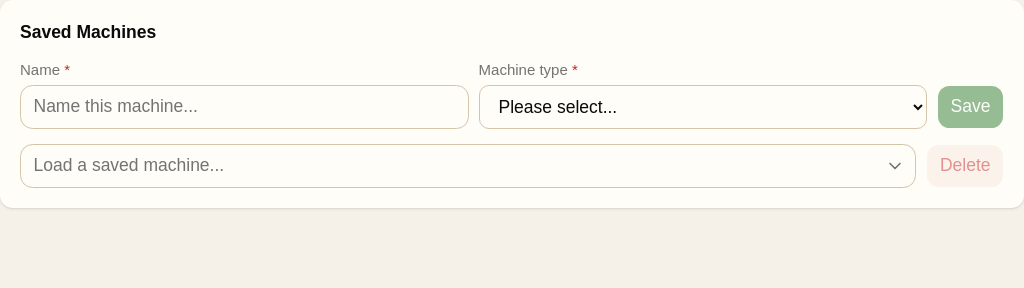
Test: SaveLoadToolbar - machine type dropdown › populates machine type dropdown when a machine is loaded
This screenshot has width=1024, height=288.
# Load the second machine
Step 1. Click the text "Load a saved machine..." → {"x": 129, "y": 166}, box [34,156,224,176]
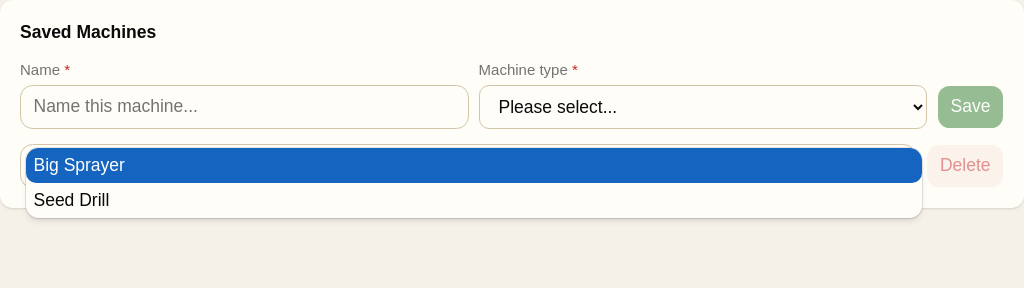
Step 2. Click the option "Seed Drill" → {"x": 71, "y": 200}, box [34,190,109,210]
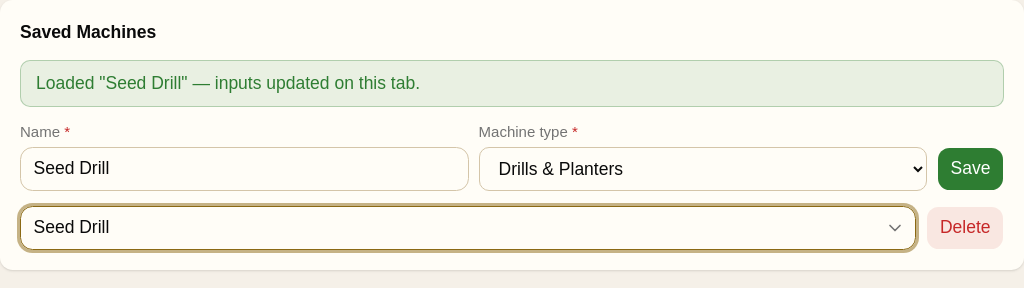
expect the dropdown labelled "Machine type *" shows "Drills & Planters": met, box [478,147,927,191]
